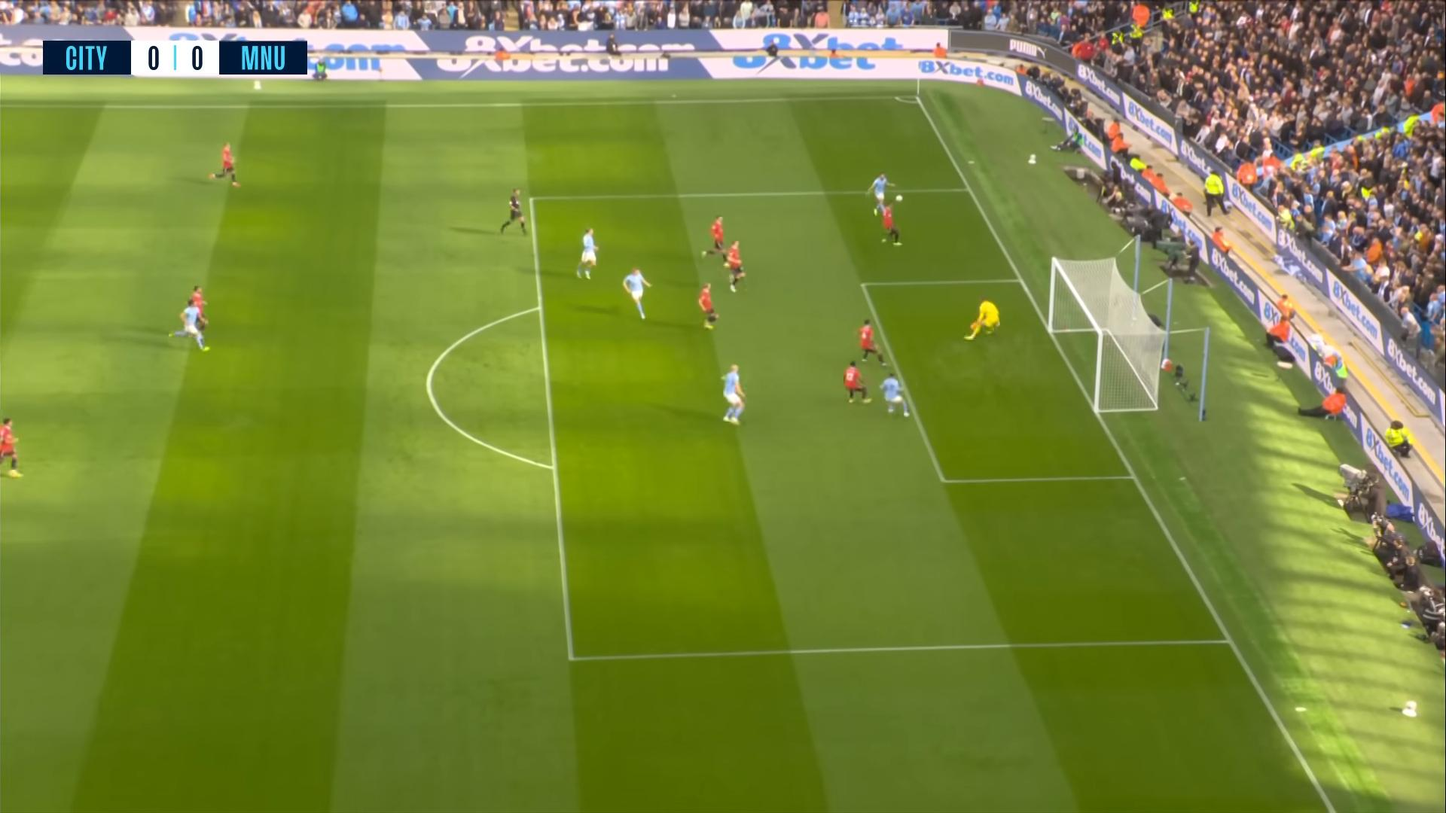Goalkeeper: (966, 296, 1000, 340)
Player: (172, 288, 209, 350), (621, 268, 652, 319), (172, 305, 206, 350), (723, 364, 746, 425), (209, 144, 240, 186), (881, 373, 909, 418), (856, 319, 884, 364), (0, 418, 20, 477), (844, 361, 870, 404), (576, 226, 596, 279), (698, 282, 720, 330), (726, 240, 746, 291), (703, 217, 726, 258), (881, 203, 901, 246), (870, 172, 890, 213)
ball: (892, 192, 904, 203)
referee: (500, 189, 525, 234)
